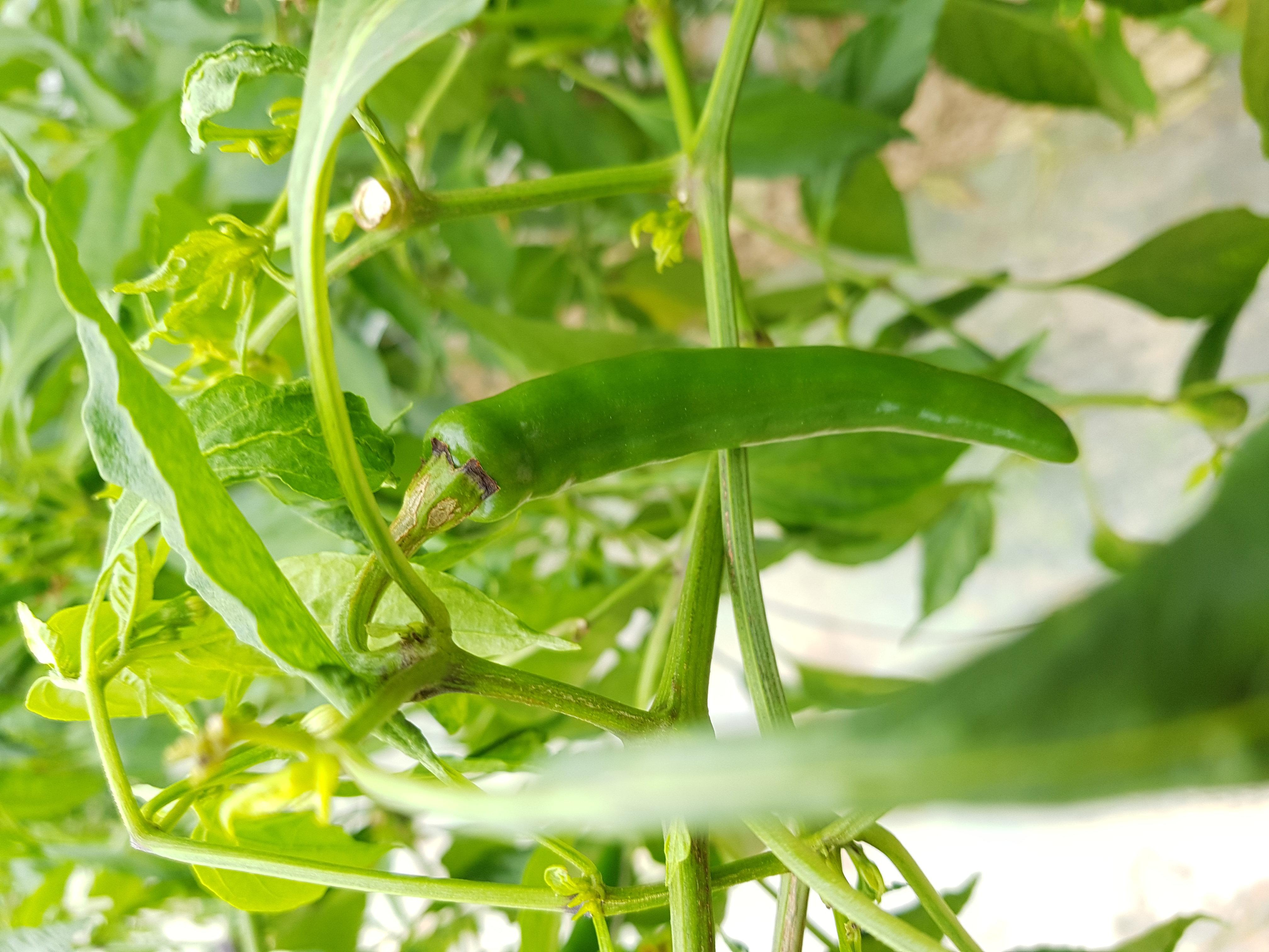Buah Cabai Sehat: (404, 339, 1081, 550)
